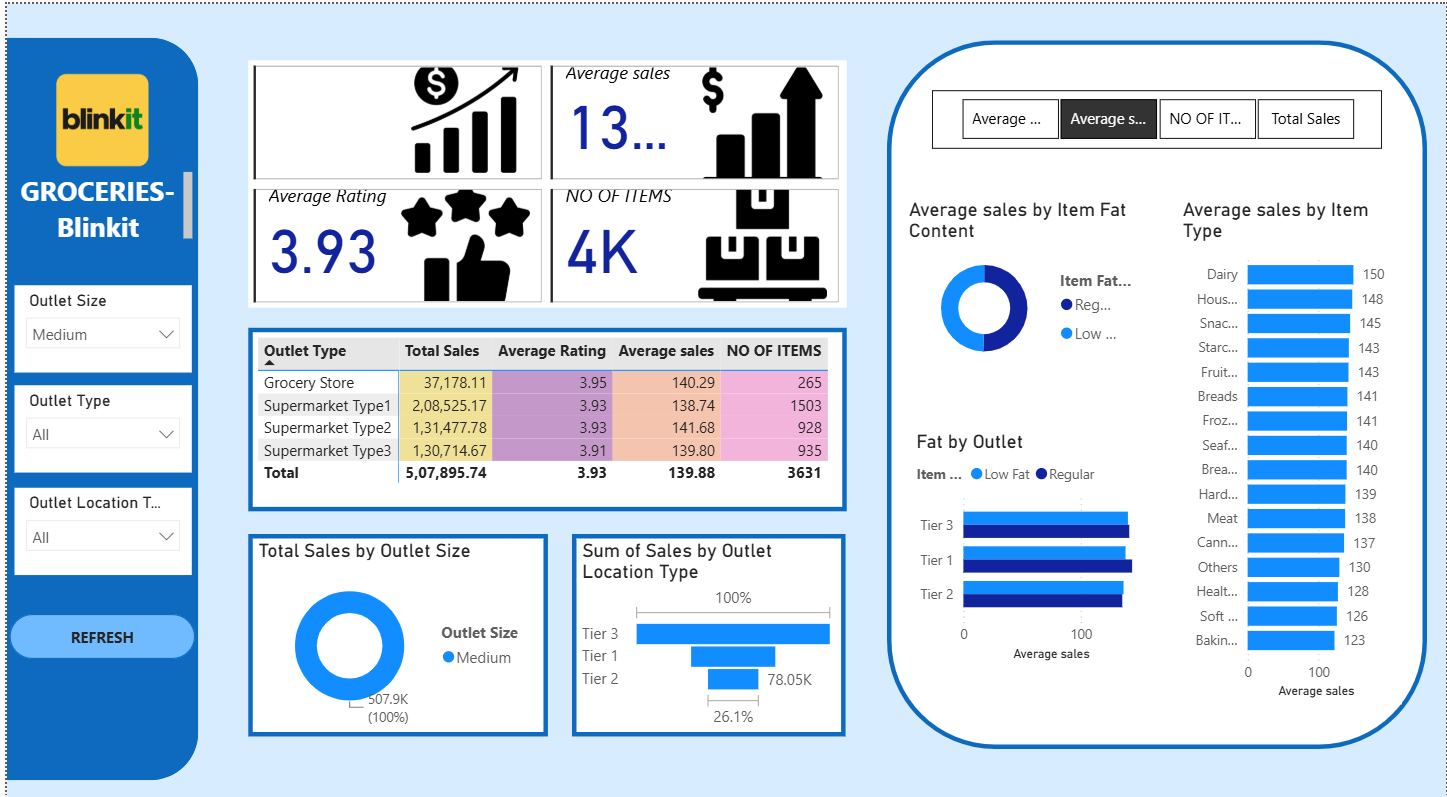

What the dashboard file says about the page in this screenshot:
{"tool":"powerbi","page":{"name":"Page 1","canvas":[1280,720],"ordinal":0},"visuals":[{"type":"shape","box":[781.7,31.7,480,630],"z":0},{"type":"shape","box":[0,30,170,660],"z":1000},{"type":"cardVisual","fields":{"Data":["BlinkIT Grocery Data.Total Sales","BlinkIT Grocery Data.Average sales","BlinkIT Grocery Data.Average Rating","BlinkIT Grocery Data.NO OF ITEMS"]},"box":[213.9,49.4,531.7,220],"z":2000},{"type":"donutChart","fields":{"Category":["BlinkIT Grocery Data.Item Fat Content"],"Y":["BlinkIT Grocery Data.Total Sales"]},"box":[796.7,171.7,213.3,158.3],"z":3000},{"type":"slicer","fields":{"Values":["METRICS.METRICS"]},"box":[821.7,76.7,400,51.7],"z":4000},{"type":"barChart","fields":{"Category":["BlinkIT Grocery Data.Item Type"],"Y":["BlinkIT Grocery Data.Total Sales"]},"box":[1040,171.7,200,450],"z":5000},{"type":"clusteredBarChart","title":"Fat by Outlet","fields":{"Category":["BlinkIT Grocery Data.Outlet Location Type"],"Series":["BlinkIT Grocery Data.Item Fat Content"],"Y":["BlinkIT Grocery Data.Total Sales"]},"box":[803.3,378.3,218.3,210],"z":6000},{"type":"donutChart","fields":{"Category":["BlinkIT Grocery Data.Outlet Size"],"Y":["BlinkIT Grocery Data.Total Sales"]},"box":[213.9,471.1,266.7,180],"z":7000},{"type":"funnel","fields":{"Category":["BlinkIT Grocery Data.Outlet Location Type"],"Y":["Sum(BlinkIT Grocery Data.Sales)"]},"box":[502.2,471.1,243.3,180],"z":8000},{"type":"pivotTable","fields":{"Rows":["BlinkIT Grocery Data.Outlet Type"],"Values":["BlinkIT Grocery Data.Total Sales","BlinkIT Grocery Data.Average Rating","BlinkIT Grocery Data.Average sales","BlinkIT Grocery Data.NO OF ITEMS"]},"box":[213.9,287.8,531.7,163.3],"z":9000},{"type":"slicer","fields":{"Values":["BlinkIT Grocery Data.Outlet Size"]},"box":[6.5,250.2,157.5,77.5],"z":10000},{"type":"slicer","fields":{"Values":["BlinkIT Grocery Data.Outlet Type"]},"box":[6.5,338.9,157.5,77.5],"z":11000},{"type":"slicer","fields":{"Values":["BlinkIT Grocery Data.Outlet Location Type"]},"box":[6.5,430.2,157.5,77.5],"z":12000},{"type":"textbox","box":[0,144.7,170.2,71.6],"z":13000},{"type":"shape","box":[1.7,541.7,165,40],"z":14000},{"type":"image","box":[30,50,110,106.7],"z":15000}]}

Visuals, with their boxes in screenshot pixels (x1, y1, x2, y2), scaled from the page's 1280x720 canvas onto the 1447x797 screenshot:
shape: {"left": 884, "top": 35, "right": 1426, "bottom": 732}
shape: {"left": 0, "top": 33, "right": 192, "bottom": 764}
cardVisual - BlinkIT Grocery Data.Total Sales x BlinkIT Grocery Data.Average sales: {"left": 242, "top": 55, "right": 843, "bottom": 298}
donutChart - BlinkIT Grocery Data.Item Fat Content x BlinkIT Grocery Data.Total Sales: {"left": 901, "top": 190, "right": 1142, "bottom": 365}
slicer - METRICS.METRICS: {"left": 929, "top": 85, "right": 1381, "bottom": 142}
barChart - BlinkIT Grocery Data.Item Type x BlinkIT Grocery Data.Total Sales: {"left": 1176, "top": 190, "right": 1402, "bottom": 688}
"Fat by Outlet" clusteredBarChart: {"left": 908, "top": 419, "right": 1155, "bottom": 651}
donutChart - BlinkIT Grocery Data.Outlet Size x BlinkIT Grocery Data.Total Sales: {"left": 242, "top": 521, "right": 543, "bottom": 721}
funnel - BlinkIT Grocery Data.Outlet Location Type x Sum(BlinkIT Grocery Data.Sales): {"left": 568, "top": 521, "right": 843, "bottom": 721}
pivotTable - BlinkIT Grocery Data.Outlet Type x BlinkIT Grocery Data.Total Sales: {"left": 242, "top": 319, "right": 843, "bottom": 499}
slicer - BlinkIT Grocery Data.Outlet Size: {"left": 7, "top": 277, "right": 185, "bottom": 363}
slicer - BlinkIT Grocery Data.Outlet Type: {"left": 7, "top": 375, "right": 185, "bottom": 461}
slicer - BlinkIT Grocery Data.Outlet Location Type: {"left": 7, "top": 476, "right": 185, "bottom": 562}
textbox: {"left": 0, "top": 160, "right": 192, "bottom": 239}
shape: {"left": 2, "top": 600, "right": 188, "bottom": 644}
image: {"left": 34, "top": 55, "right": 158, "bottom": 173}
